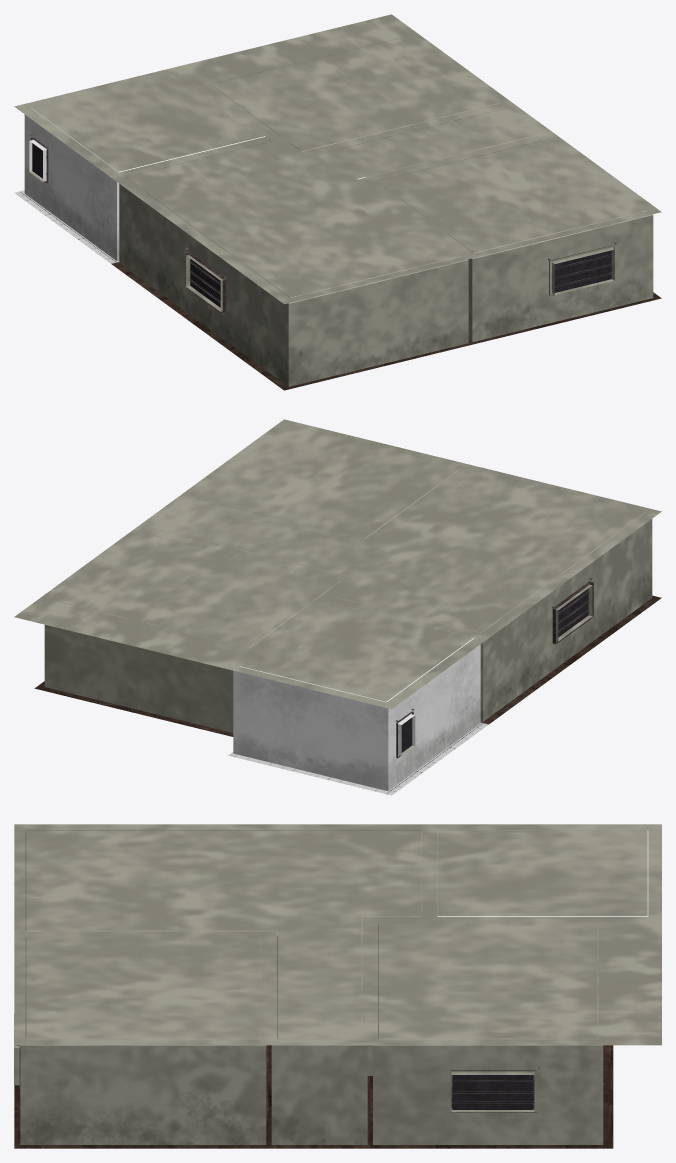
File: DeputyInterior.fbx
3 renders of one model, top to bottom at view 1: azimuth 30°, elevation 25°; view 2: azimuth 150°, elevation 25°; view 3: azimuth 270°, elevation 25°, orthographic. The views are drawn at different scales.
Parts seen in each view (by area): view 1: Ceiling, Walls, Windows, Floor, WindowsBars; view 2: Ceiling, Walls, Floor, Windows; view 3: Ceiling, Walls, Floor, Windows, WindowsBars.
Part boxes in pixels (x1,y1,x2,y2): Ceiling: (14,14,661,304); Walls: (24,37,653,386); Windows: (31,137,614,314); Floor: (14,190,661,390); WindowsBars: (30,134,616,302); Ceiling: (14,419,661,709); Walls: (44,426,652,790); Floor: (34,595,661,795); Windows: (396,581,593,758); Ceiling: (14,824,661,1045); Walls: (14,830,648,1144); Floor: (14,1045,613,1148); Windows: (19,1046,537,1112); WindowsBars: (16,1045,539,1103).
Size of the model in its own units: 1466 by 324 by 1817.
